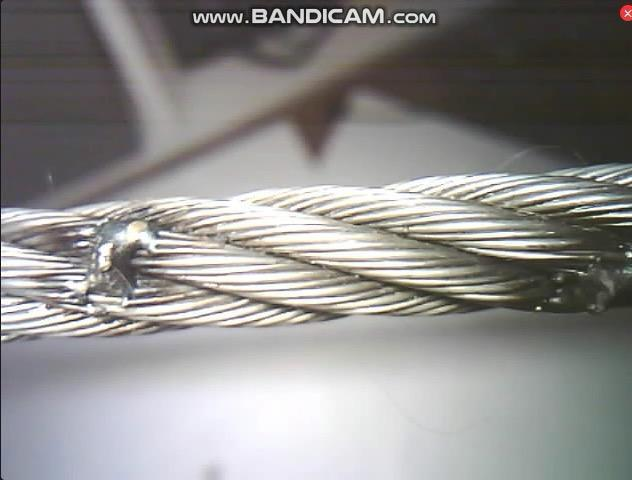thunderbolt: (73, 210, 189, 309), (528, 219, 632, 314)
